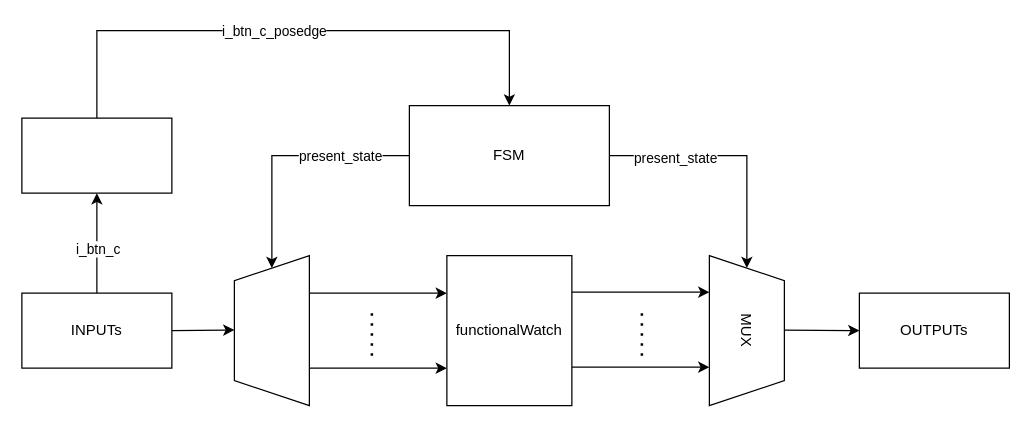
Image size: 1031x428. Some labels were removed from this diagram. Here are the shapes that lost their labels. From the top down, the centre of each, then its label:
At (x=96, y=155): "buttonControl BTN_C".
At (x=271, y=330): "DEMUX".
